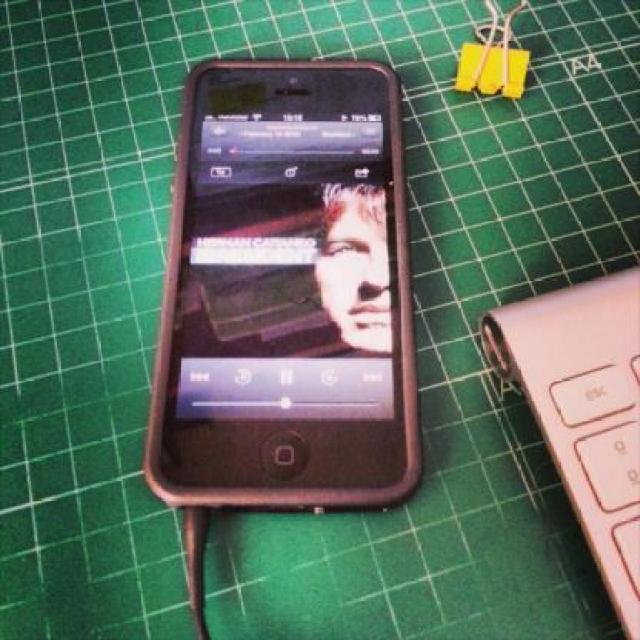phone: (140, 58, 426, 514)
